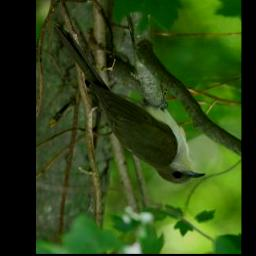Cuckoo: (52, 22, 206, 185)
